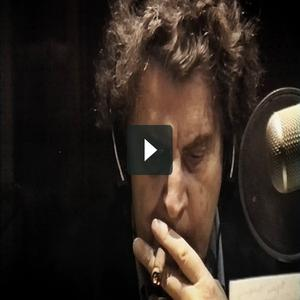cigarette: (152, 242, 168, 287)
